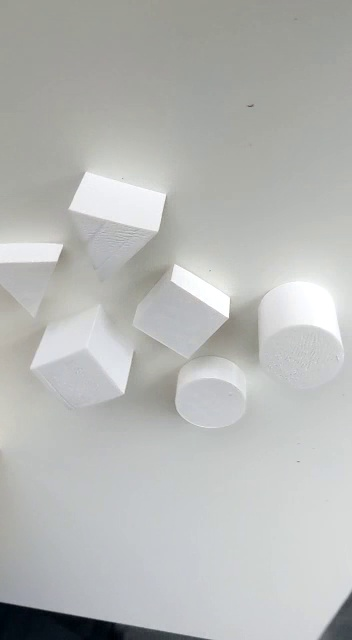Clyinder_short: (171, 354, 249, 431)
Cube: (28, 299, 138, 419)
Cube_short: (129, 262, 234, 362)
Cylinder: (254, 279, 346, 394)
Triangle: (66, 171, 166, 287)
Triangle_short: (1, 239, 66, 322)
